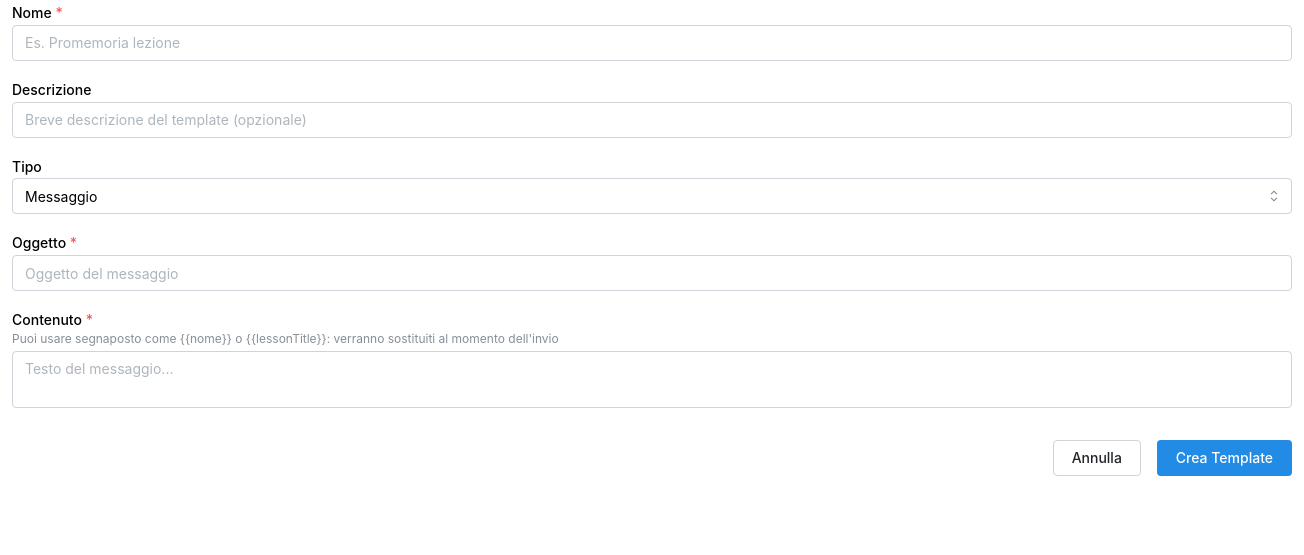
Test: MessageTemplateForm › valida i campi obbligatori e non chiama fetch
Click the button "Crea Template" at (1224, 458), box [1157,440,1292,476]
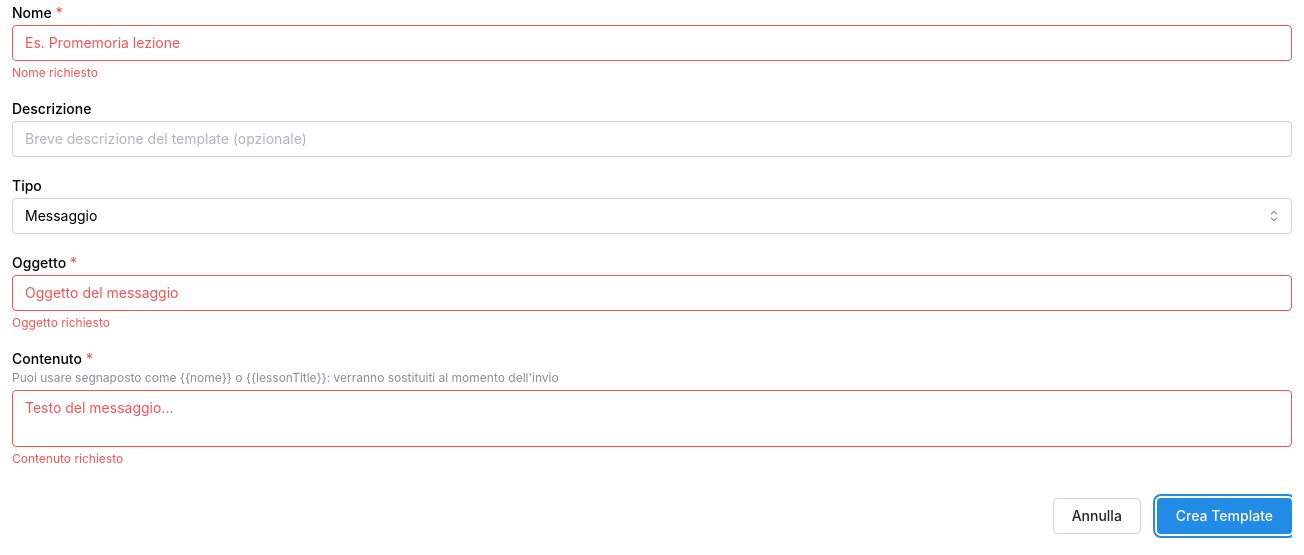
Check: the text "Nome richiesto" is shown, box [12,65,98,80]
Check: the text "Oggetto richiesto" is shown, box [12,315,110,330]
Check: the text "Contenuto richiesto" is shown, box [12,450,123,466]
